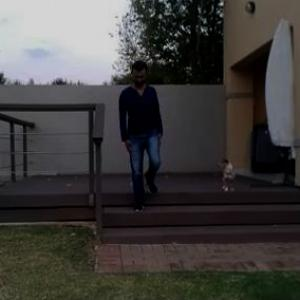follow: (120, 55, 163, 222)
